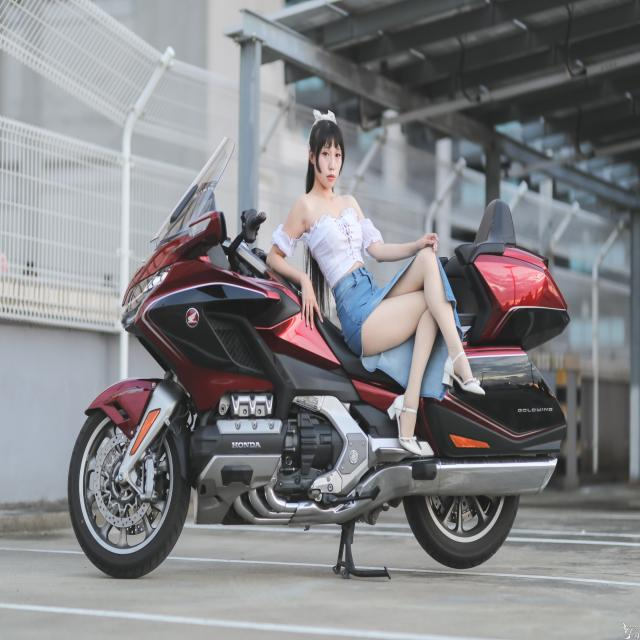Bike: (67, 139, 570, 581)
